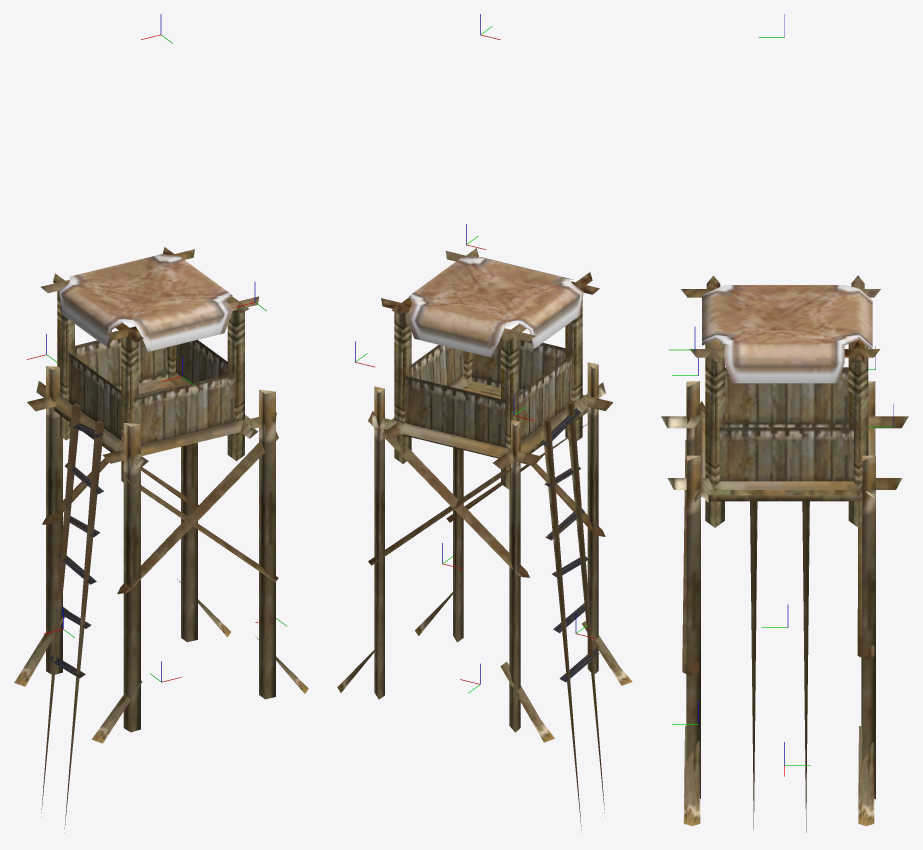
The model's file is egyptian-outpost.glb.
3 renders of one model, left to right at view 1: azimuth 30°, elevation 25°; view 2: azimuth 150°, elevation 25°; view 3: azimuth 270°, elevation 25°, orthographic. The views are drawn at different scales.
Visible parts, largest first — view 1: building outpostModel; view 2: building outpostModel; view 3: building outpostModel.
Part boxes in pixels (x1,y1,x2,y2): building outpostModel: [14, 247, 308, 832]; building outpostModel: [337, 248, 632, 833]; building outpostModel: [661, 275, 908, 832].
Bounding box in the file's own units: 2.78 × 9.36 × 2.38.
3 materials, 2 textured.
